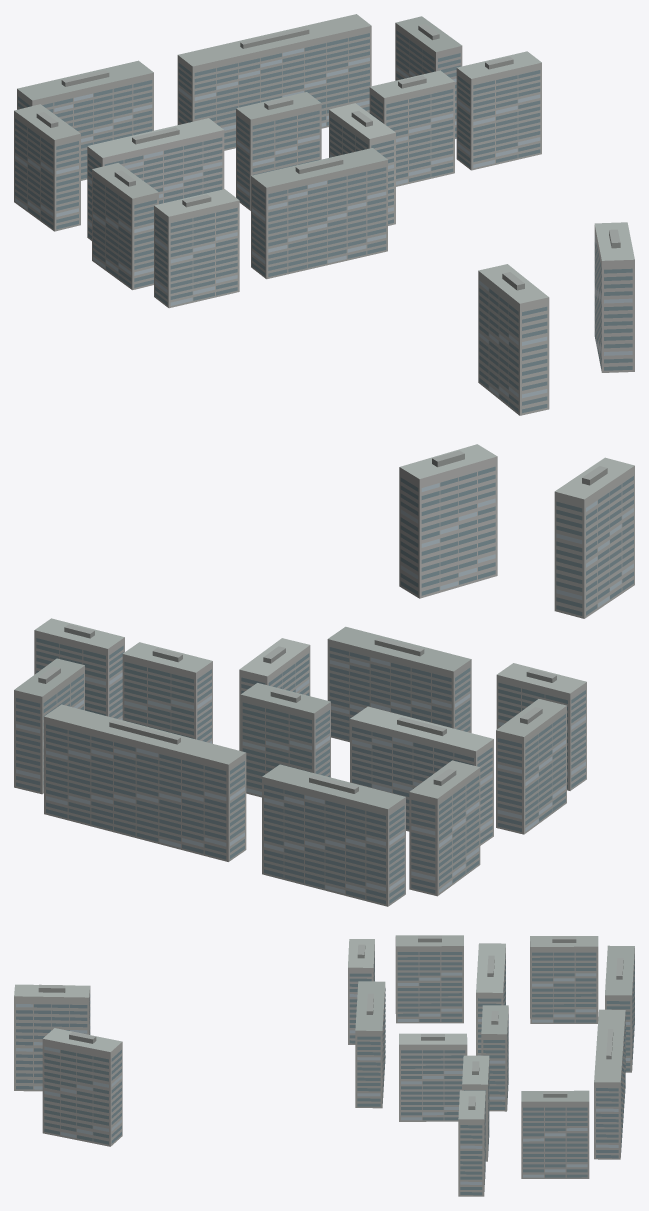
Rendered from apt-a13983811.glb.
3 renders of one model, top to bottom at view 1: azimuth 30°, elevation 25°; view 2: azimuth 150°, elevation 25°; view 3: azimuth 270°, elevation 25°, orthographic. The views are drawn at different scales.
Parts seen in each view (by area): view 1: apt-a13983811; view 2: apt-a13983811; view 3: apt-a13983811.
Part boxes in pixels (<box>): apt-a13983811: <box>14,14,634,415</box>; apt-a13983811: <box>14,444,634,906</box>; apt-a13983811: <box>14,935,634,1196</box>.
Size of the model in its own units: 195 by 49 by 278.
